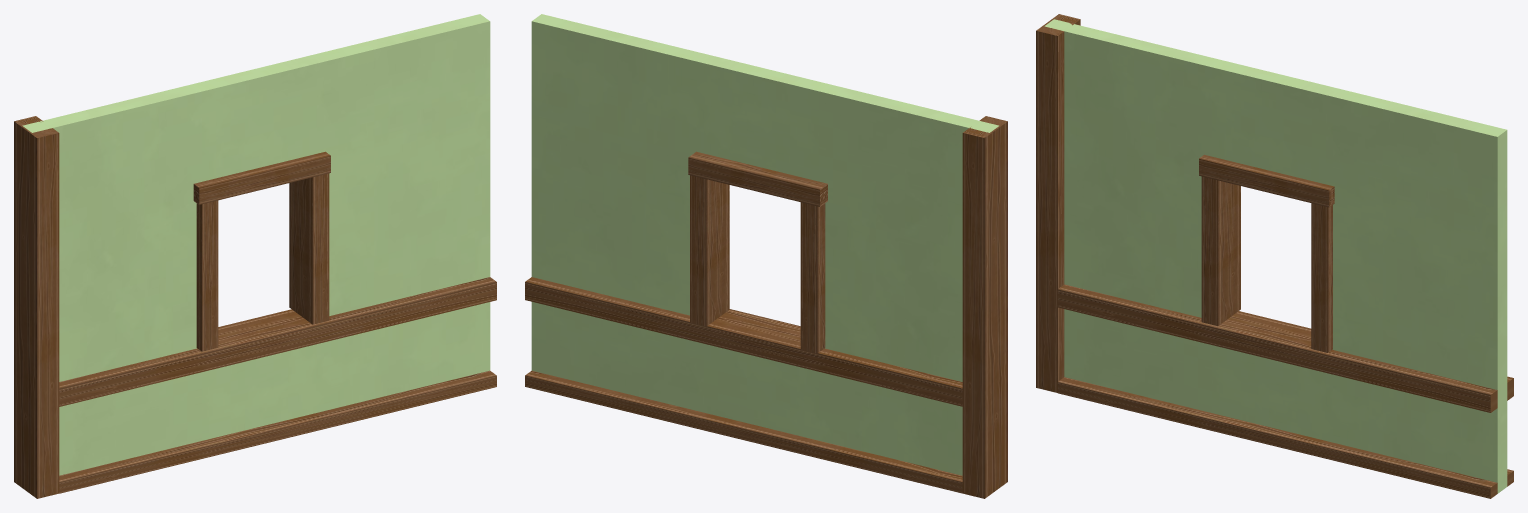
The model's file is SM_Window_Wall_01_wmint.glb.
3 renders of one model, left to right at view 1: azimuth 30°, elevation 25°; view 2: azimuth 150°, elevation 25°; view 3: azimuth 330°, elevation 25°, orthographic.
Parts seen in each view (by area): view 1: SM_Window_Wall_01; view 2: SM_Window_Wall_01; view 3: SM_Window_Wall_01.
Boxes of the visible parts, bbox=[...] form: SM_Window_Wall_01: bbox=[14, 14, 496, 498]; SM_Window_Wall_01: bbox=[525, 14, 1007, 498]; SM_Window_Wall_01: bbox=[1036, 14, 1513, 498].
Bounding box in the file's own units: 4 × 3 × 0.3736.
Materials: 2 (2 with a texture image).
